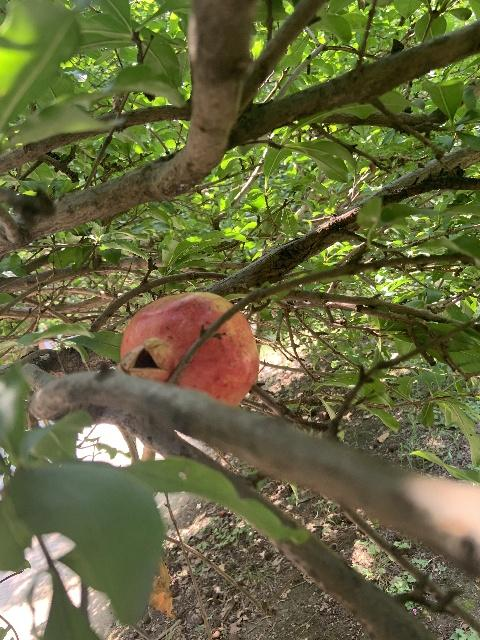ripe: (120, 292, 260, 408)
